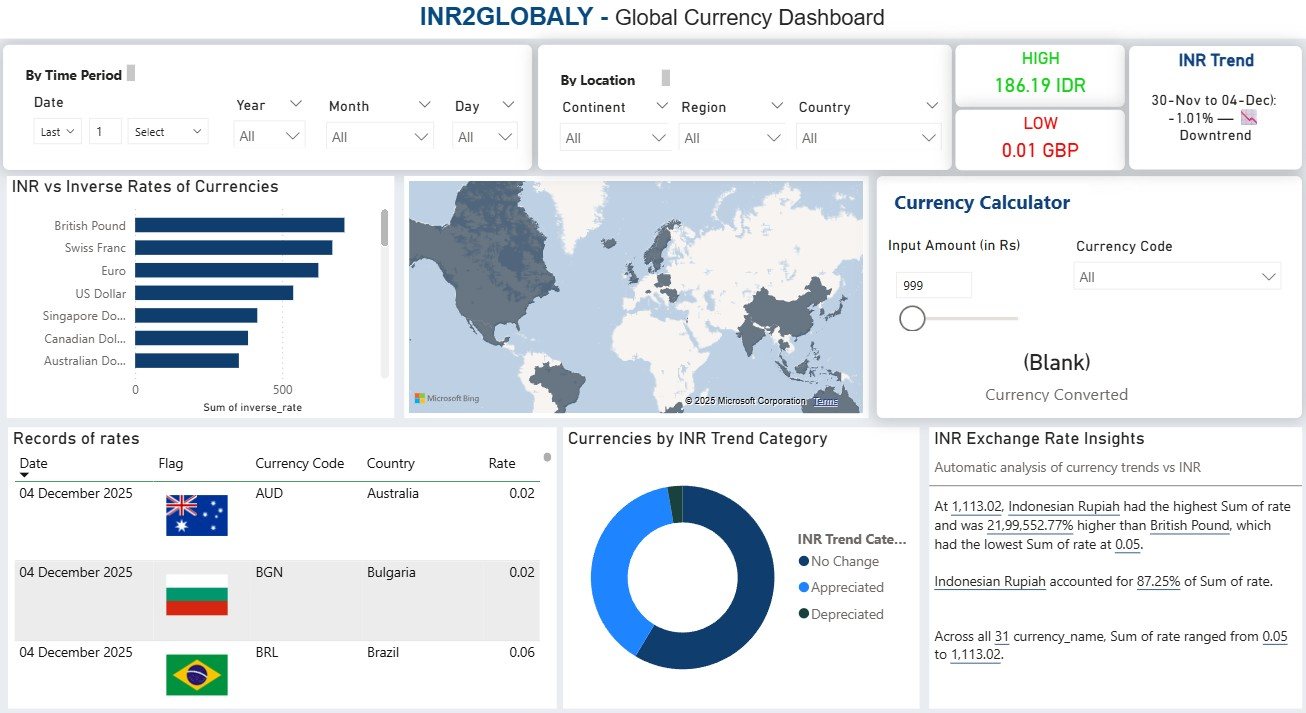

The page's visual inventory and layout, read from the dashboard file:
{"tool":"powerbi","page":{"name":"Page 1","canvas":[1280,720],"ordinal":0},"visuals":[{"type":"card","title":"jhukyk","fields":{"Values":["Min(DateTable.Date)"]},"box":[4.9,63,517.3,122.2],"z":0},{"type":"filledMap","fields":{"Category":["public master_currency.country"]},"box":[397.5,191.4,454.3,237],"z":1000},{"type":"clusteredBarChart","title":"INR vs Inverse Rates of Currencies","fields":{"Category":["public master_currency.currency_name"],"Y":["Sum(public inr_currency.inverse_rate)"]},"box":[8.6,191.4,379,237],"z":2000},{"type":"donutChart","title":"Currencies by INR Trend Category","fields":{"Y":["CountNonNull(public inr_currency.currency_code)"],"Category":["public inr_currency.INR Trend Category"]},"box":[552.7,436.6,348.5,275.1],"z":3000},{"type":"textbox","box":[0,17.1,1280.3,39.1],"z":4000},{"type":"group","id":"g1","title":"Group 1","box":[220.1,108.1,298.4,56.3],"z":5000},{"type":"slicer","fields":{"Values":["DateTable.Year"]},"box":[220.1,108.1,90.5,55],"z":5000,"group":"g1"},{"type":"slicer","fields":{"Values":["public master_currency.continent"]},"box":[539.1,109.7,129.6,56.3],"z":5000,"group":"g2"},{"type":"slicer","fields":{"Values":["DateTable.MonthName","DateTable.MonthNum"]},"box":[310.6,109.3,126,55],"z":6000,"group":"g1"},{"type":"slicer","fields":{"Values":["public master_currency.region"]},"box":[655.4,110,126,55],"z":6000,"group":"g2"},{"type":"card","title":"jhukyk","fields":{"Values":["Min(DateTable.Date)"]},"box":[859.3,191.4,416,237],"z":6000},{"type":"textbox","box":[22,77,117.4,25.7],"z":7000},{"type":"slicer","fields":{"Values":["DateTable.Day"]},"box":[434.1,109.3,84.4,55],"z":7000,"group":"g1"},{"type":"slicer","fields":{"Values":["public master_currency.country"]},"box":[770.4,110,162.6,55],"z":7000,"group":"g2"},{"type":"card","title":"jhukyk","fields":{"Values":["Min(DateTable.Date)"]},"box":[528.4,63,404.9,122.2],"z":8000},{"type":"group","id":"g2","title":"Group 1","box":[539.1,109.7,393.9,56.3],"z":9000},{"type":"textbox","box":[545.9,81.4,117.4,25.7],"z":10000},{"type":"slicer","fields":{"Values":["DateTable.Date"]},"box":[22,105.2,198.1,56.3],"z":11000},{"type":"card","title":"HIGH","fields":{"Values":["public inr_currency.Max Currency Display"]},"box":[936.8,63,165.4,60.5],"z":12000},{"type":"card","title":"LOW","fields":{"Values":["public inr_currency.Lowest Rate"]},"box":[936.8,125.9,165.4,59.3],"z":13000},{"type":"card","title":"INR Trend","fields":{"Values":["public inr_currency.INR vs Global KPI Text"]},"box":[1106.2,64.2,169.1,121],"z":14000},{"type":"slicer","title":"Input Amount (in Rs)","fields":{"Values":["Input Amount.Input Amount"]},"box":[865.8,249.5,155.3,92.9],"z":15000},{"type":"slicer","fields":{"Values":["public master_currency.currency_code"]},"box":[1041.9,245.8,223.8,92.9],"z":16000},{"type":"card","fields":{"Values":["public inr_currency.Currency Converted"]},"box":[930.9,350.6,211.1,65.4],"z":17000},{"type":"textbox","box":[871.6,197.5,196.3,48.1],"z":18000},{"type":"tableEx","title":"Records of rates","fields":{"Values":["public inr_currency.date","public master_currency.flag_url","public inr_currency.currency_code","public master_currency.country","Sum(public inr_currency.rate)"]},"box":[9.8,436.6,536.8,275.1],"z":19000},{"type":"textbox","title":"INR Exchange Rate Insights","box":[911,436.6,364.4,275.1],"z":20001}]}

Visuals, with their boxes on the page's 1280x720 design canvas (x1, y1, x2, y2). These are canvas units, not pixel positions in the 1306x713 screenshot, which may show the page scaled, cropped or inside an application window:
"jhukyk" card: select_region(5, 63, 522, 185)
filledMap - public master_currency.country: select_region(398, 191, 852, 428)
"INR vs Inverse Rates of Currencies" clusteredBarChart: select_region(9, 191, 388, 428)
"Currencies by INR Trend Category" donutChart: select_region(553, 437, 901, 712)
textbox: select_region(0, 17, 1280, 56)
"Group 1" group: select_region(220, 108, 518, 164)
slicer - DateTable.Year: select_region(220, 108, 311, 163)
slicer - public master_currency.continent: select_region(539, 110, 669, 166)
slicer - DateTable.MonthName x DateTable.MonthNum: select_region(311, 109, 437, 164)
slicer - public master_currency.region: select_region(655, 110, 781, 165)
"jhukyk" card: select_region(859, 191, 1275, 428)
textbox: select_region(22, 77, 139, 103)
slicer - DateTable.Day: select_region(434, 109, 518, 164)
slicer - public master_currency.country: select_region(770, 110, 933, 165)
"jhukyk" card: select_region(528, 63, 933, 185)
"Group 1" group: select_region(539, 110, 933, 166)
textbox: select_region(546, 81, 663, 107)
slicer - DateTable.Date: select_region(22, 105, 220, 162)
"HIGH" card: select_region(937, 63, 1102, 124)
"LOW" card: select_region(937, 126, 1102, 185)
"INR Trend" card: select_region(1106, 64, 1275, 185)
"Input Amount (in Rs)" slicer: select_region(866, 250, 1021, 342)
slicer - public master_currency.currency_code: select_region(1042, 246, 1266, 339)
card - public inr_currency.Currency Converted: select_region(931, 351, 1142, 416)
textbox: select_region(872, 198, 1068, 246)
"Records of rates" tableEx: select_region(10, 437, 547, 712)
"INR Exchange Rate Insights" textbox: select_region(911, 437, 1275, 712)
